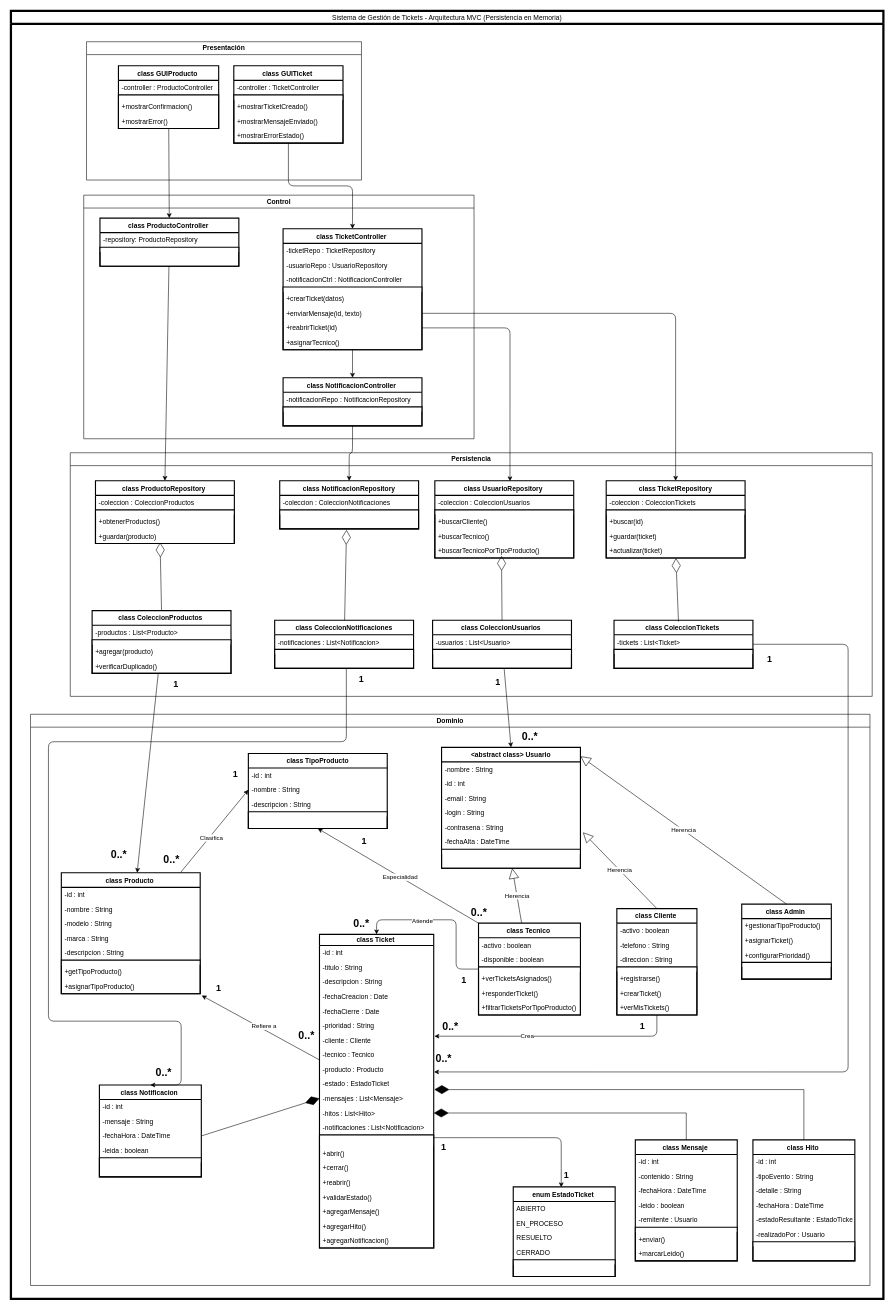
The diagram is 894 pixels wide and 1309 high, and some of its shapes have lost their labels. Each missing label, with the centre of its shape:
"+agregar(notificacion)" belongs at pixel 344 658.
"+agregar(ticket)" belongs at pixel 683 658.
"+agregar(usuario)" belongs at pixel 502 658.
"+crearNotificacion()" belongs at pixel 352 416.
"+crearProducto(datos)" belongs at pixel 169 256.
"+guardar(notificacion)" belongs at pixel 349 519.
"+iniciarSesion()" belongs at pixel 511 858.
"+marcarLeida()" belongs at pixel 150 1167.
"+registrar()" belongs at pixel 803 1251.
